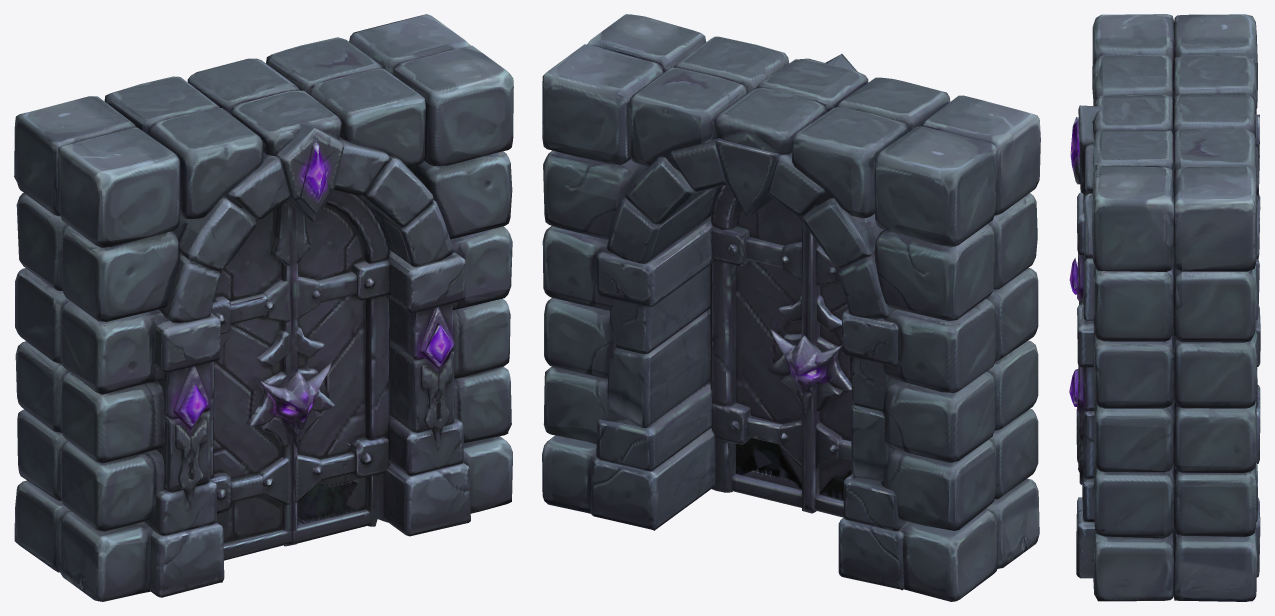
Rendered from door_standard_recolor_from_wall.glb.
The picture shows the model from 3 angles, left to right: view 1: azimuth 30°, elevation 25°; view 2: azimuth 150°, elevation 25°; view 3: azimuth 270°, elevation 25°; orthographic projection. The views are drawn at different scales.
Bounding box in the file's own units: 1 × 0.998 × 0.4287.
Materials: 1 (1 with a texture image).
